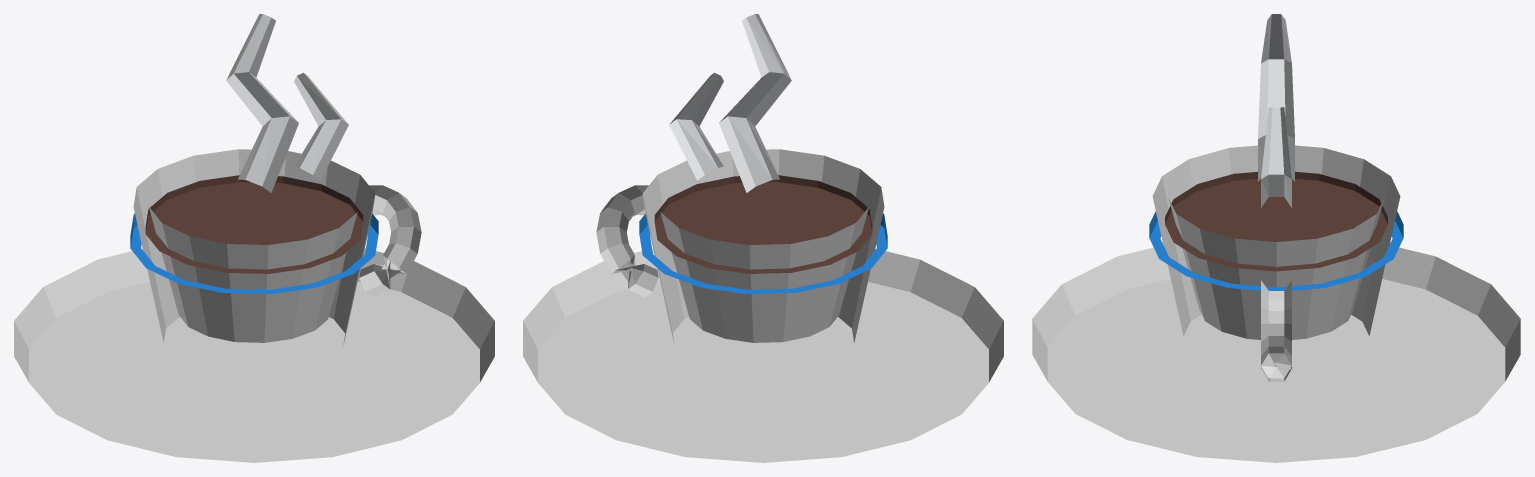
File: kaffekopp.glb
The picture shows the model from 3 angles, left to right: view 1: azimuth 30°, elevation 25°; view 2: azimuth 150°, elevation 25°; view 3: azimuth 270°, elevation 25°; orthographic projection.
Visible parts, largest first — view 1: kaffekopp; view 2: kaffekopp; view 3: kaffekopp.
Boxes of the visible parts, bbox=[...] form: kaffekopp: bbox=[14, 14, 494, 462]; kaffekopp: bbox=[523, 14, 1003, 462]; kaffekopp: bbox=[1032, 14, 1520, 462].
Size of the model in its own units: 0.32 by 0.2523 by 0.3152.
